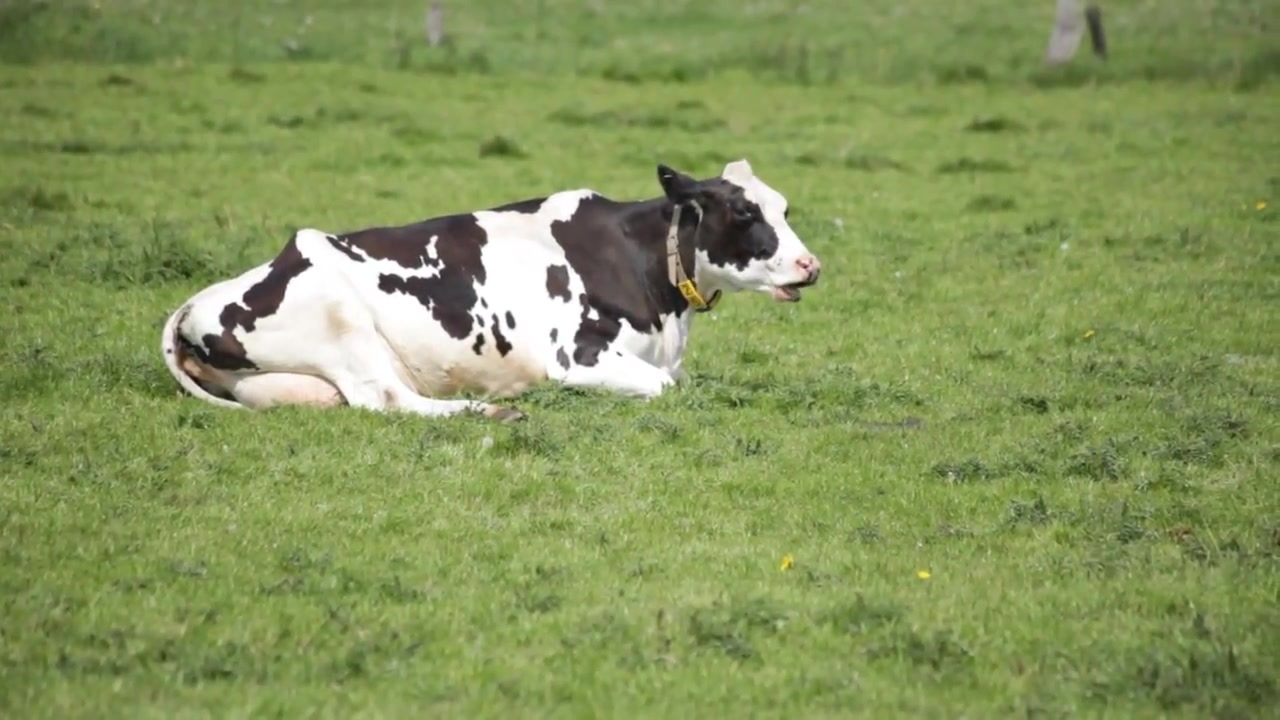cow: (160, 153, 819, 422)
